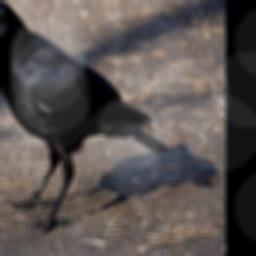Crow: (0, 0, 168, 234)
